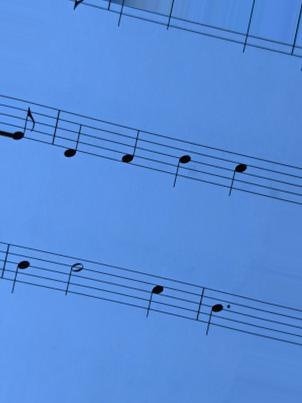note: (7, 236, 34, 295), (61, 102, 85, 166), (141, 266, 167, 325), (170, 134, 195, 191), (223, 147, 250, 199), (200, 282, 224, 339), (116, 123, 140, 174)
